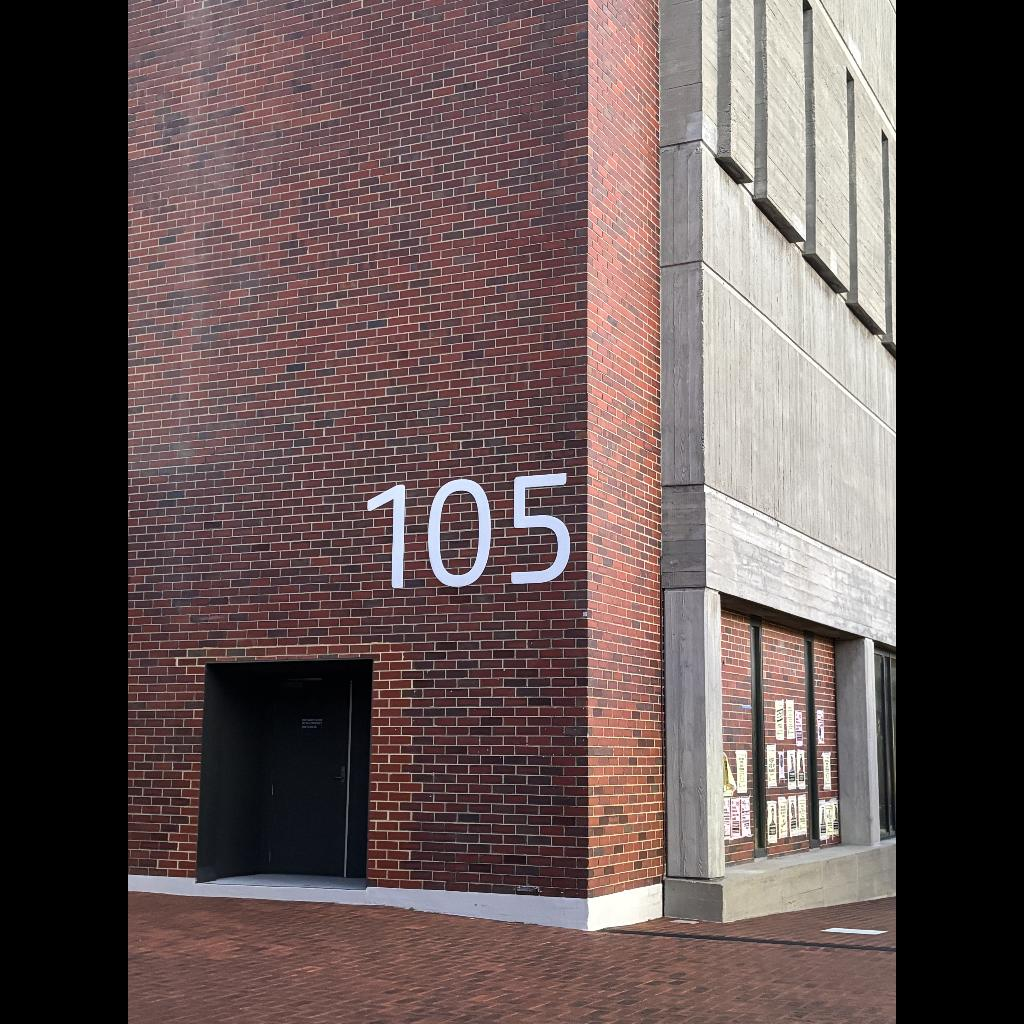BuildingCodes: (362, 466, 578, 592)
